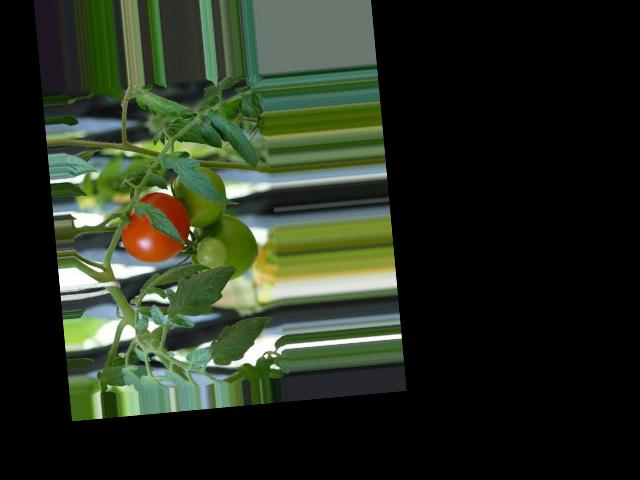tomato: (117, 189, 192, 266)
